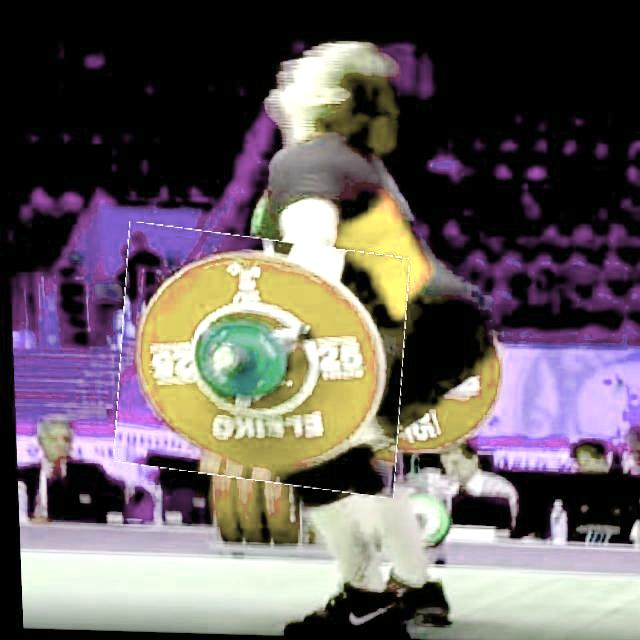barbell: (111, 228, 410, 490)
